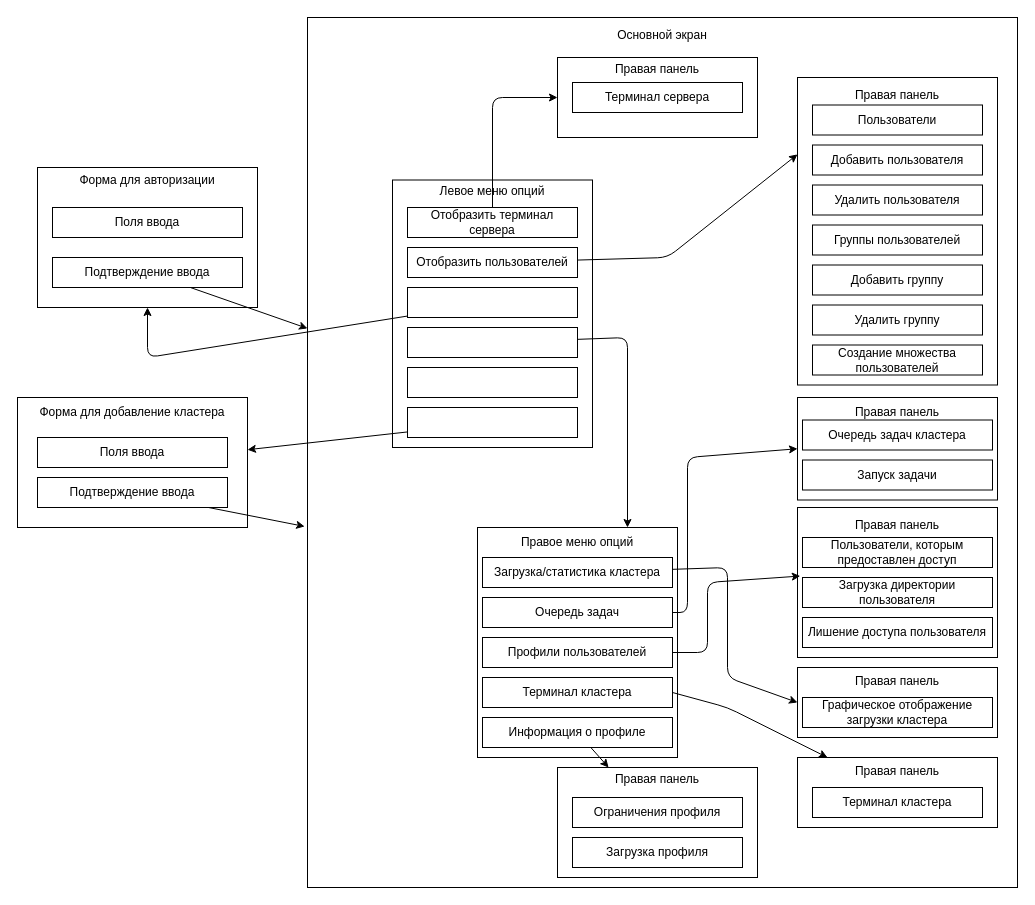
Image size: 1035x905. Some labels were removed from this diagram. Each missing label, with the centre of its shape:
Выбор добавленного кластера: [492,342]
Выход: [492,302]
Добавление кластера: [492,422]
Поиск кластеров по названию: [492,382]
